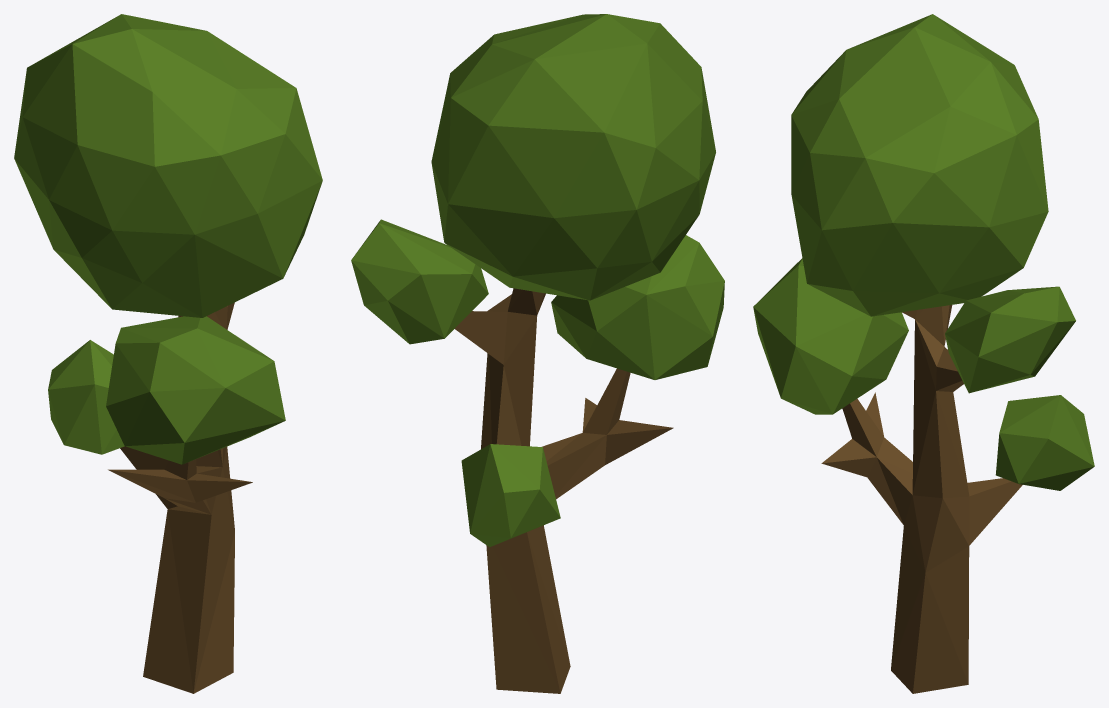
File: temp-decid.moderate-op0.5.gltf
3 views of the same model, side by side, from view 1: azimuth 30°, elevation 25°; view 2: azimuth 150°, elevation 25°; view 3: azimuth 270°, elevation 25° (orthographic). The views are drawn at different scales.
Visible parts, largest first — view 1: Tree1_2; view 2: Tree1_2; view 3: Tree1_2.
Part boxes in pixels (x1=…): Tree1_2: x1=14, y1=14, x2=322, y2=693; Tree1_2: x1=351, y1=14, x2=724, y2=693; Tree1_2: x1=753, y1=14, x2=1094, y2=693.
Size of the model in its own units: 2.65 by 5.94 by 2.96.
Materials: 1 (1 with a texture image).
